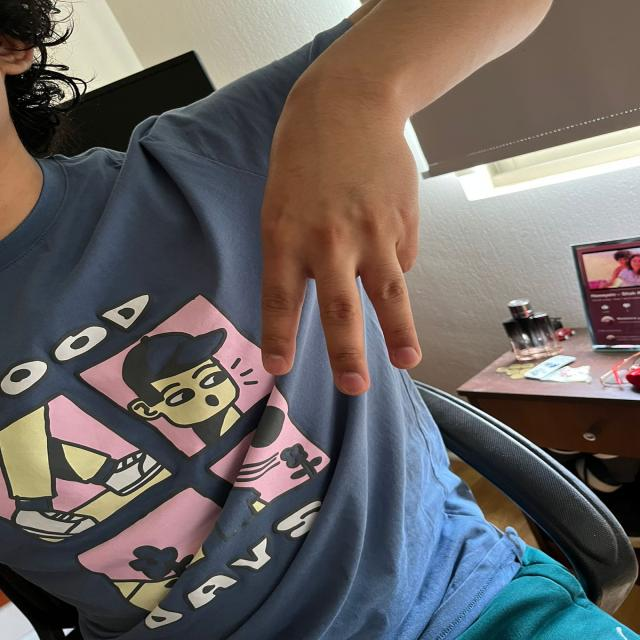M: (249, 92, 447, 397)
